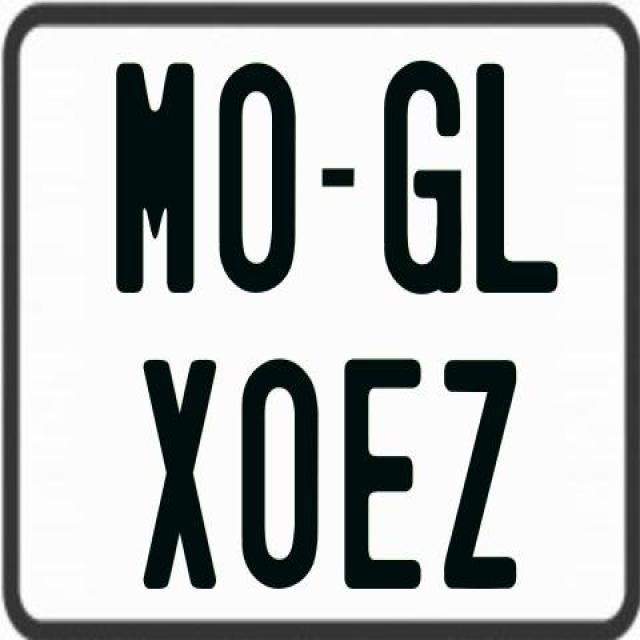0: (238, 355, 322, 592), (218, 61, 298, 292)
E: (340, 355, 420, 595)
G: (381, 56, 459, 299)
L: (472, 59, 560, 296)
M: (112, 62, 196, 302)
X: (140, 360, 219, 589)
Z: (444, 360, 516, 595)
